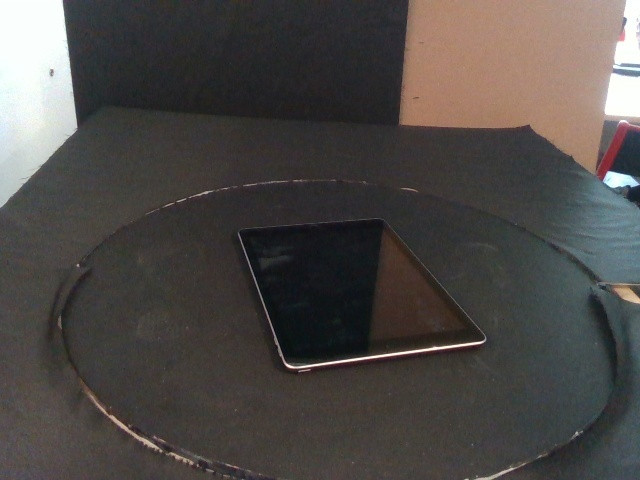laptop: (238, 218, 488, 375)
